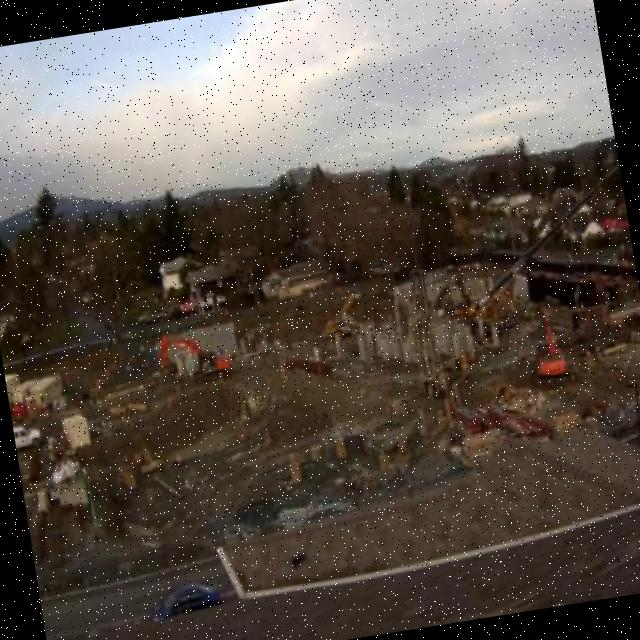Excavator: (147, 322, 231, 391), (522, 302, 577, 390)
